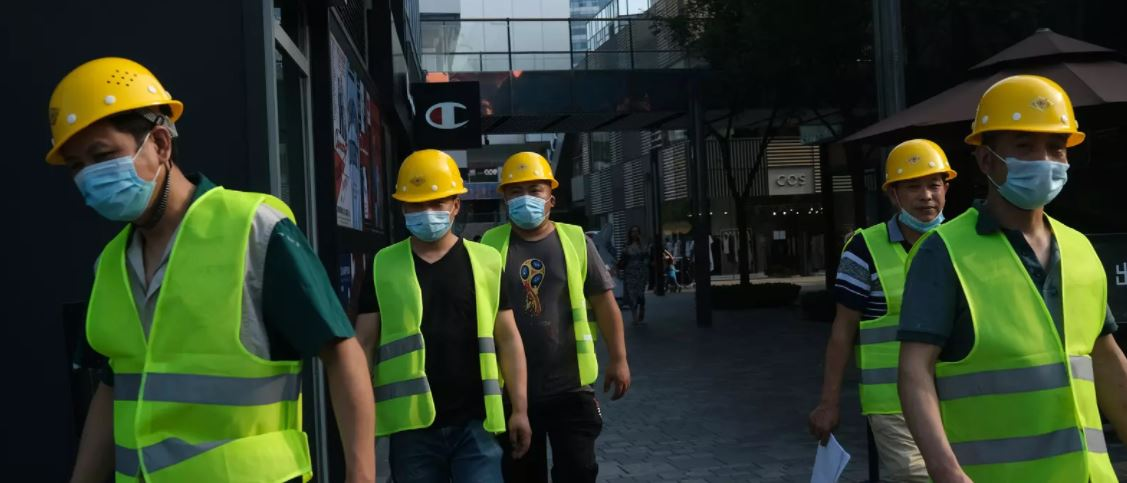Safety Helmet: (27, 42, 208, 244), (955, 61, 1094, 241), (869, 116, 967, 258), (377, 131, 475, 266), (488, 136, 569, 250)
